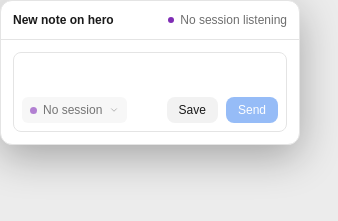
Test: Composer › asks for the text before saving an empty note
Click the button "Save": [192, 110] box [167,97,218,123]
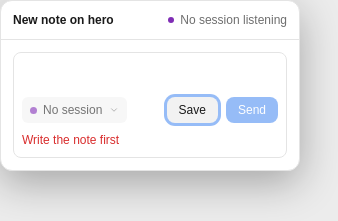
Expected: the message reads "Write the note first", [22,133,119,147]
